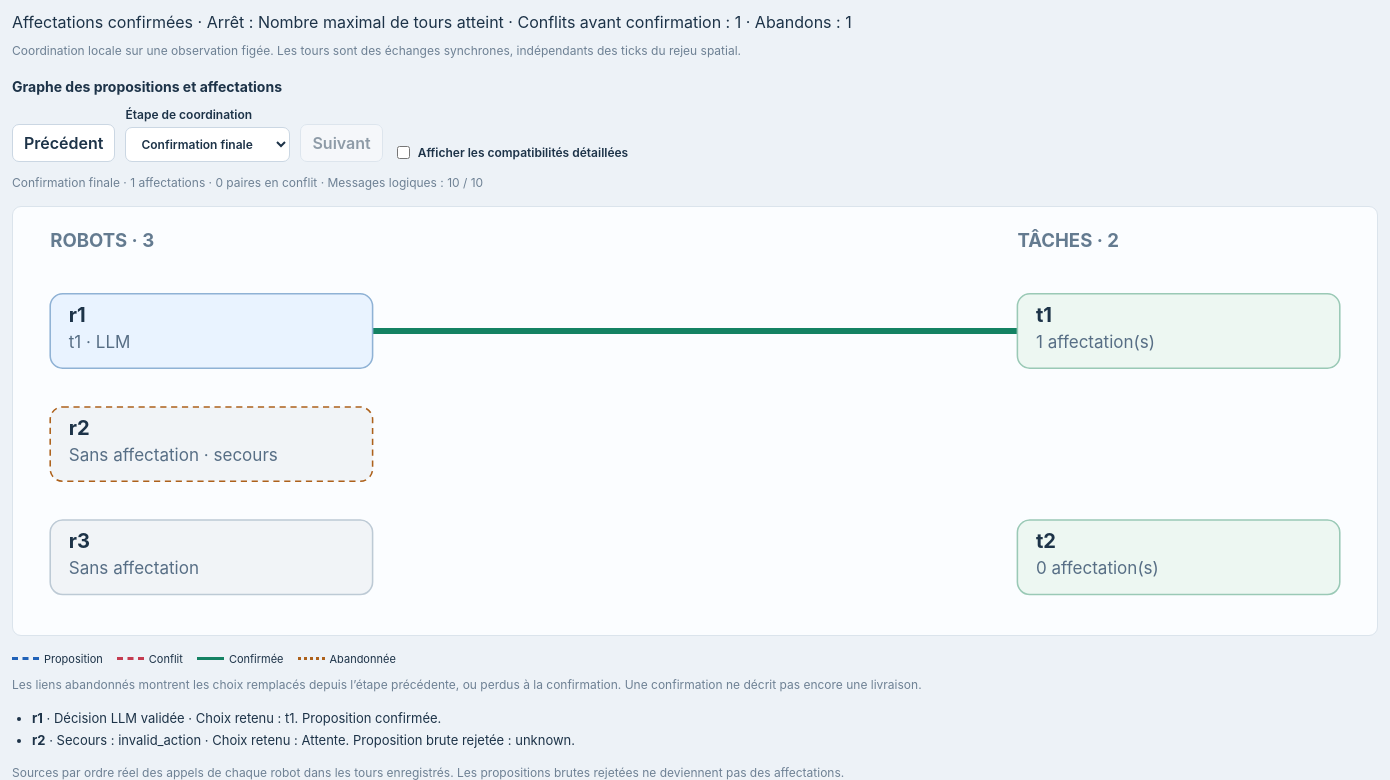
Test case: coordination graph › distinguishes model choices from fallback and keeps a rejected raw proposal out of confirmed links
The width and height of the screenshot is (1390, 780).
Expected: the list with test id "coordination-llm-sources" shows "Secours : invalid_action", [46, 732, 575, 748]
Expected: the list with test id "coordination-llm-sources" shows "Proposition brute rejetée : unknown", [46, 732, 575, 748]
Select "Tour 1 · choix locaux" in the dropdown with test id "coordination-step". click: x=208, y=144
box: [126, 127, 290, 162]
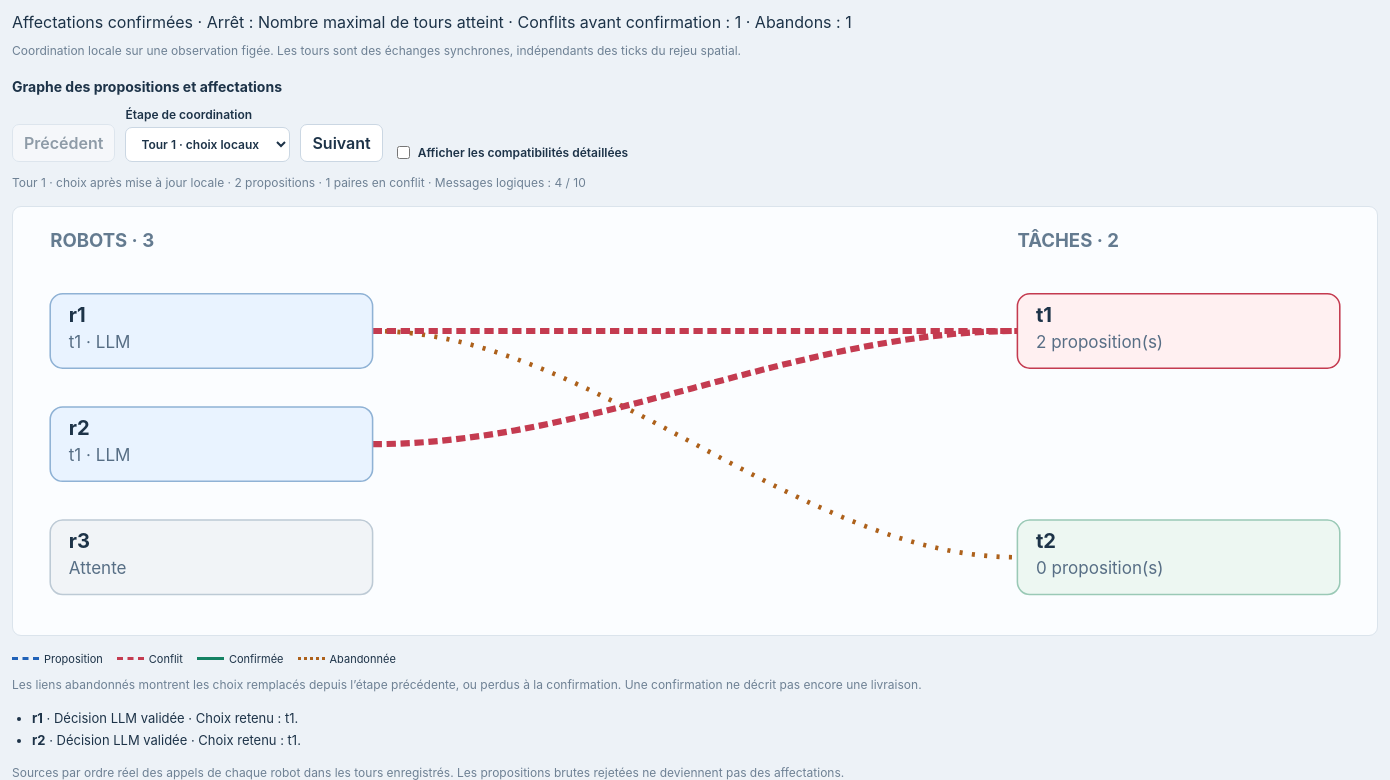
Expected: the list with test id "coordination-llm-sources" shows "Décision LLM validée", [43, 710, 298, 726]
Expected: the picture with test id "coordination-llm-sources" no longer shows "secours"
